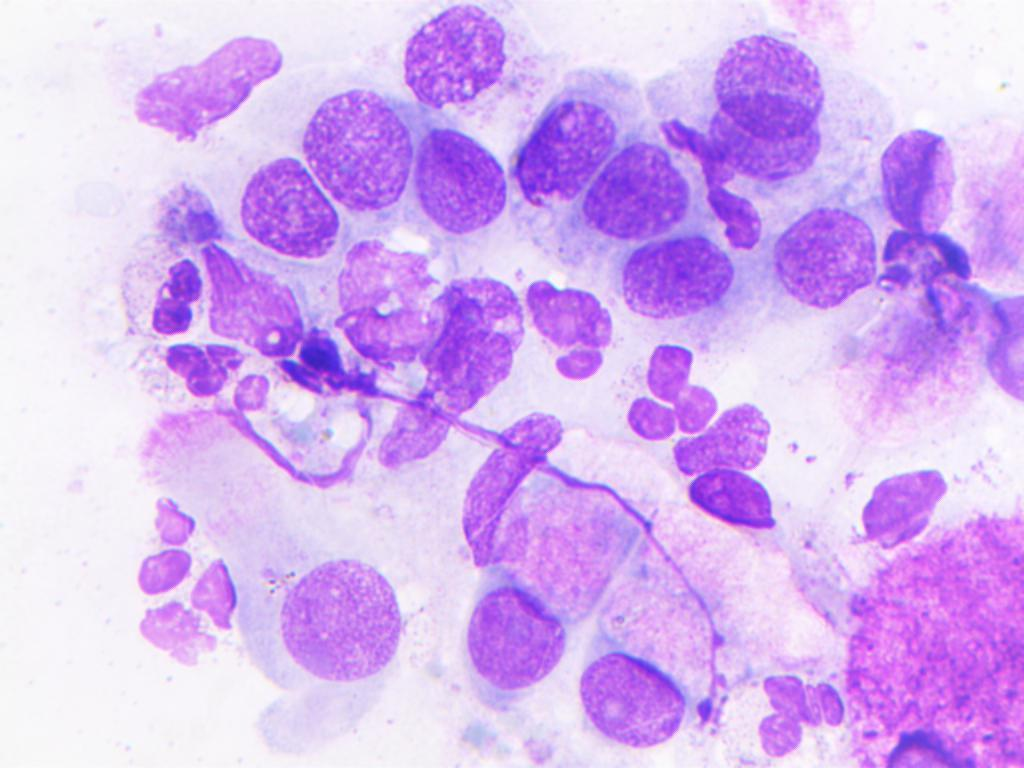epithelial: (243, 560, 412, 759), (762, 197, 878, 344), (296, 90, 417, 230), (128, 32, 286, 136), (697, 22, 836, 140), (227, 152, 351, 261), (418, 266, 531, 385), (679, 98, 829, 183), (412, 115, 506, 249), (516, 90, 618, 212), (597, 236, 747, 317), (400, 8, 511, 113), (584, 143, 696, 243)
goblet_cell: (470, 418, 669, 607), (580, 515, 725, 766), (460, 486, 600, 702), (858, 97, 1024, 236), (668, 465, 783, 584)
neutrophil: (101, 336, 317, 432), (126, 495, 242, 664), (731, 658, 862, 768), (621, 330, 729, 454), (511, 269, 611, 380), (119, 232, 212, 346), (881, 225, 984, 290)
